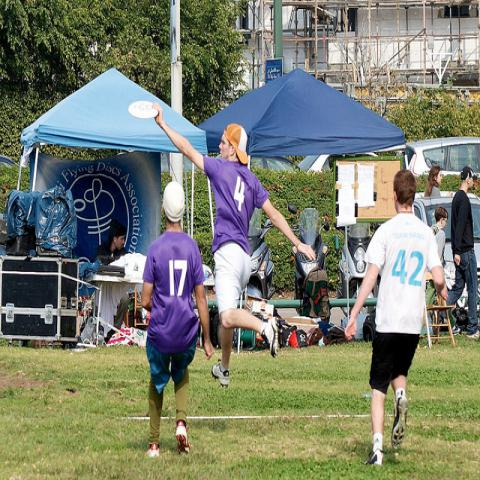car: (412, 194, 479, 284), (405, 135, 479, 179), (251, 156, 300, 174)
motorcycle: (286, 202, 330, 316), (336, 222, 380, 300)
